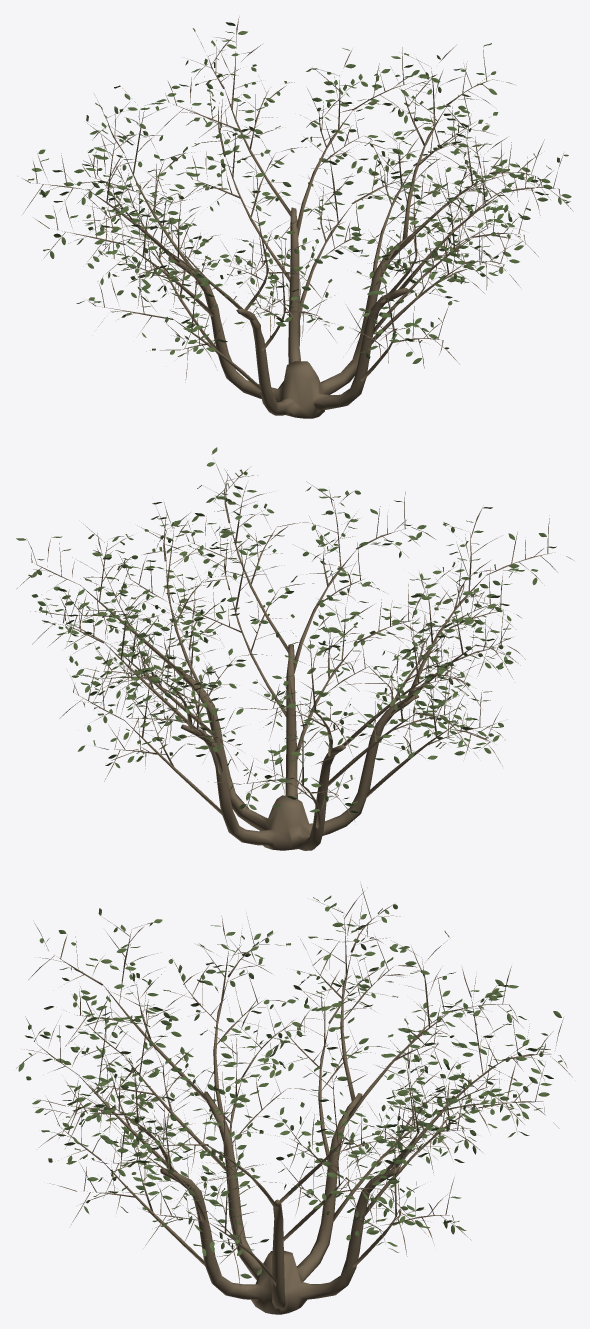
Rendered from Lentisque_0_Niveau0.fbx.
The picture shows the model from 3 angles, top to bottom: view 1: azimuth 30°, elevation 25°; view 2: azimuth 150°, elevation 25°; view 3: azimuth 270°, elevation 25°; orthographic projection. The views are drawn at different scales.
Visible parts, largest first — view 1: Lentisque_0_Niveau0; view 2: Lentisque_0_Niveau0; view 3: Lentisque_0_Niveau0.
Part boxes in pixels (bbox=[...]): Lentisque_0_Niveau0: bbox=[22, 16, 573, 418]; Lentisque_0_Niveau0: bbox=[16, 447, 573, 850]; Lentisque_0_Niveau0: bbox=[16, 885, 572, 1314].
Bounding box in the file's own units: 166 × 105 × 158.
